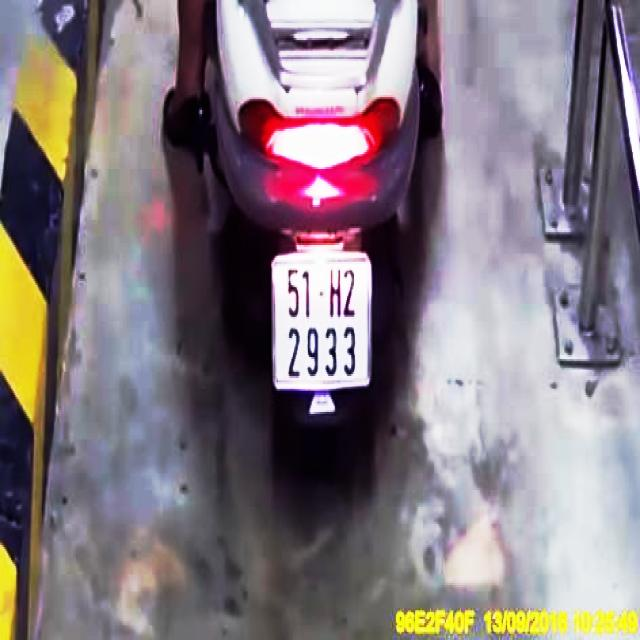license_plate: (274, 257, 372, 388)
